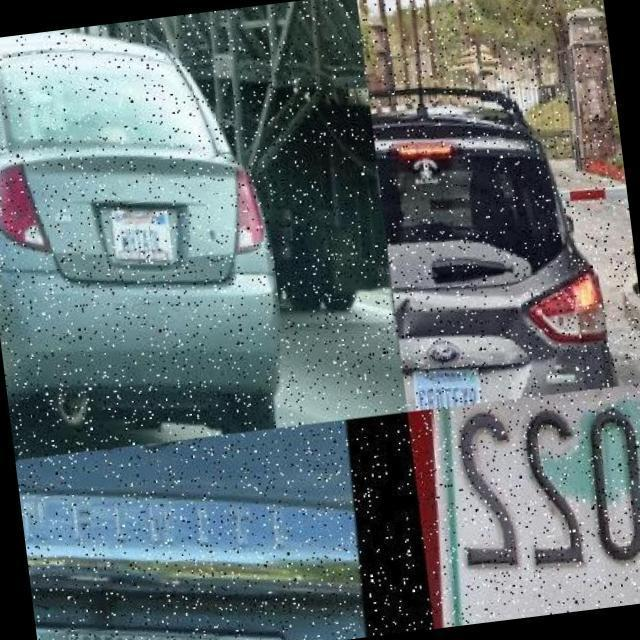License Plate: (442, 381, 640, 624), (110, 194, 180, 262), (412, 360, 482, 409)
